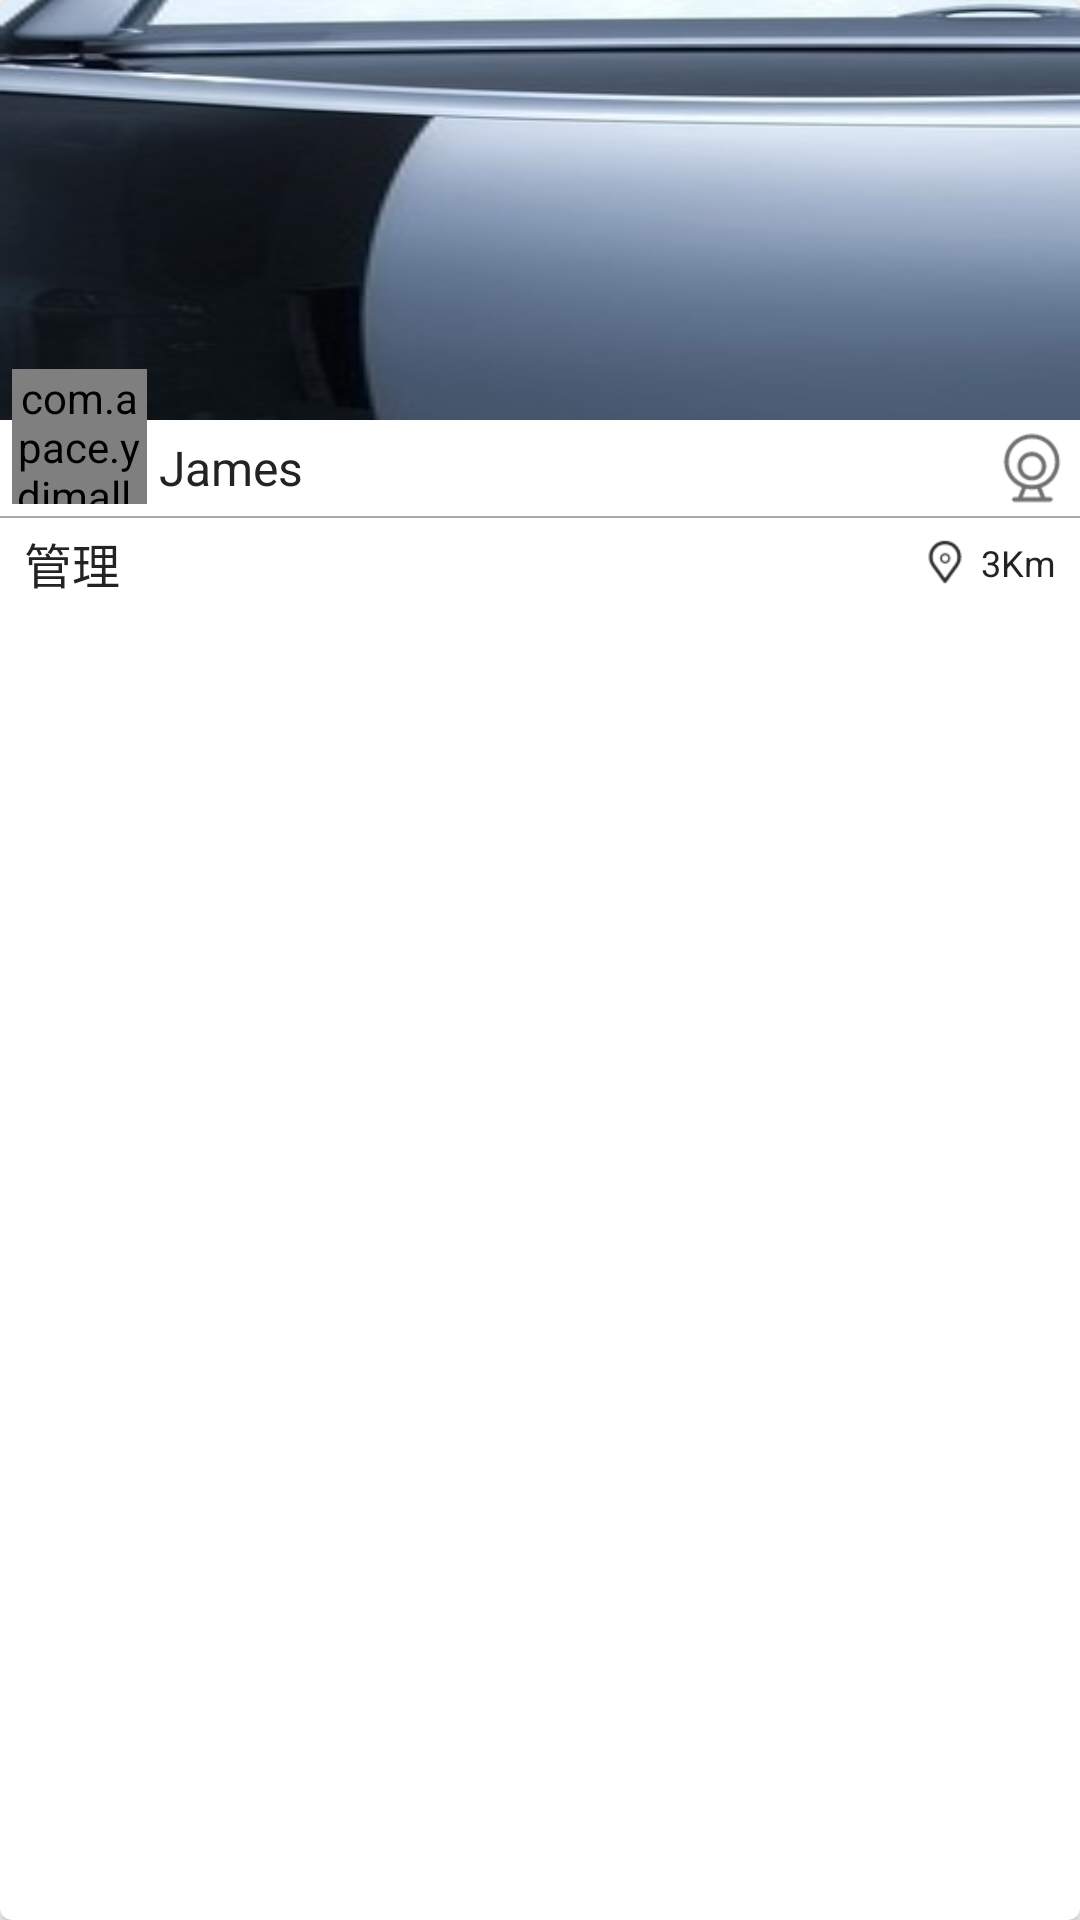

Icon bounding boxes for this 1080w x 1920h phone screenshot, format {"x1": x1, "y1": y1, "x2": x2, "y2": y2}:
nearby camera: {"x1": 1003, "y1": 433, "x2": 1060, "y2": 503}
